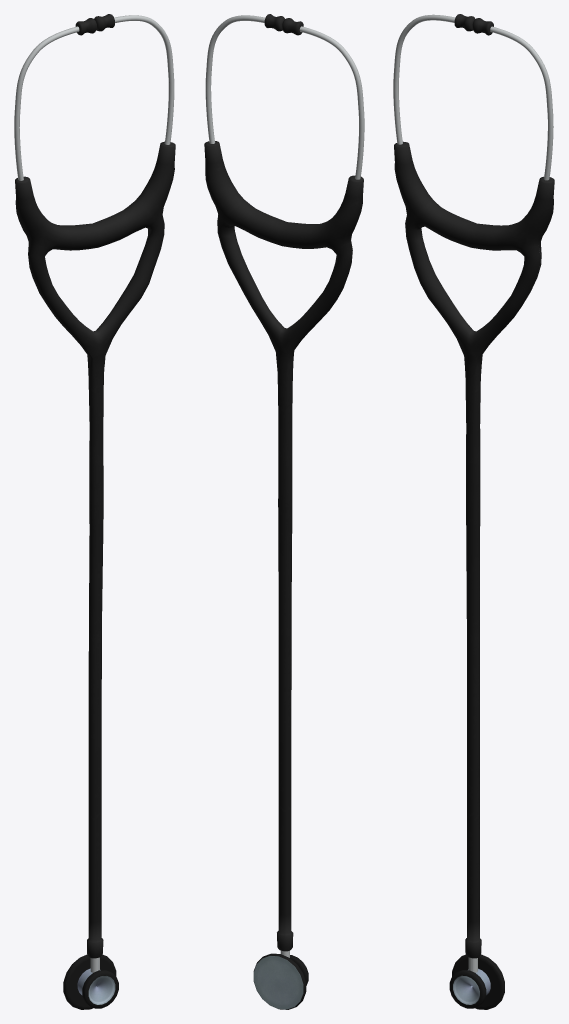
3 renders of one model, left to right at view 1: azimuth 30°, elevation 25°; view 2: azimuth 150°, elevation 25°; view 3: azimuth 330°, elevation 25°, orthographic.
Parts seen in each view (by area): view 1: Gooshi_Pezeshki; view 2: Gooshi_Pezeshki; view 3: Gooshi_Pezeshki.
Part boxes in pixels (box(x1,y1,x2,y2)): Gooshi_Pezeshki: box(14, 14, 175, 1009); Gooshi_Pezeshki: box(204, 14, 364, 1009); Gooshi_Pezeshki: box(393, 14, 554, 1009).
Size of the model in its own units: 43.68 by 259 by 6.77.
